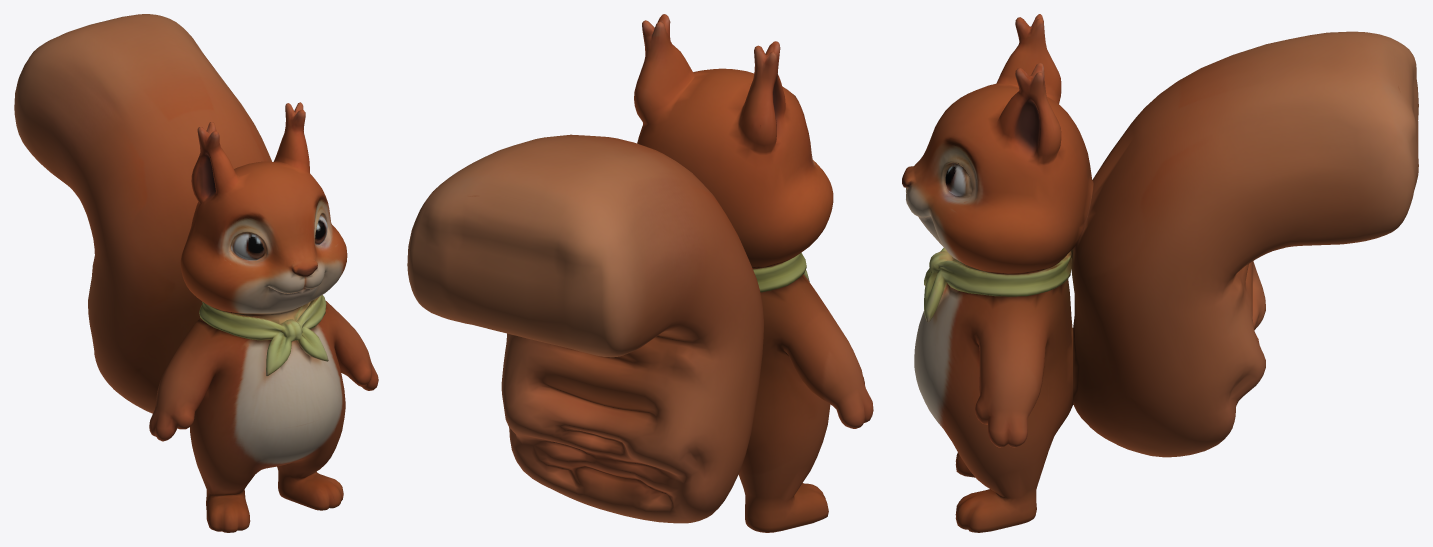
File: Esquirol.glb
3 views of the same model, side by side, from view 1: azimuth 30°, elevation 25°; view 2: azimuth 150°, elevation 25°; view 3: azimuth 270°, elevation 25° (orthographic). The views are drawn at different scales.
Visible parts, largest first — view 1: material; view 2: material; view 3: material.
Boxes of the visible parts, <box> form: material: <box>14,14,378,532</box>; material: <box>407,14,873,532</box>; material: <box>902,14,1418,532</box>.
Size of the model in its own units: 1.12 by 1.85 by 1.9.
Materials: 1 (1 with a texture image).
